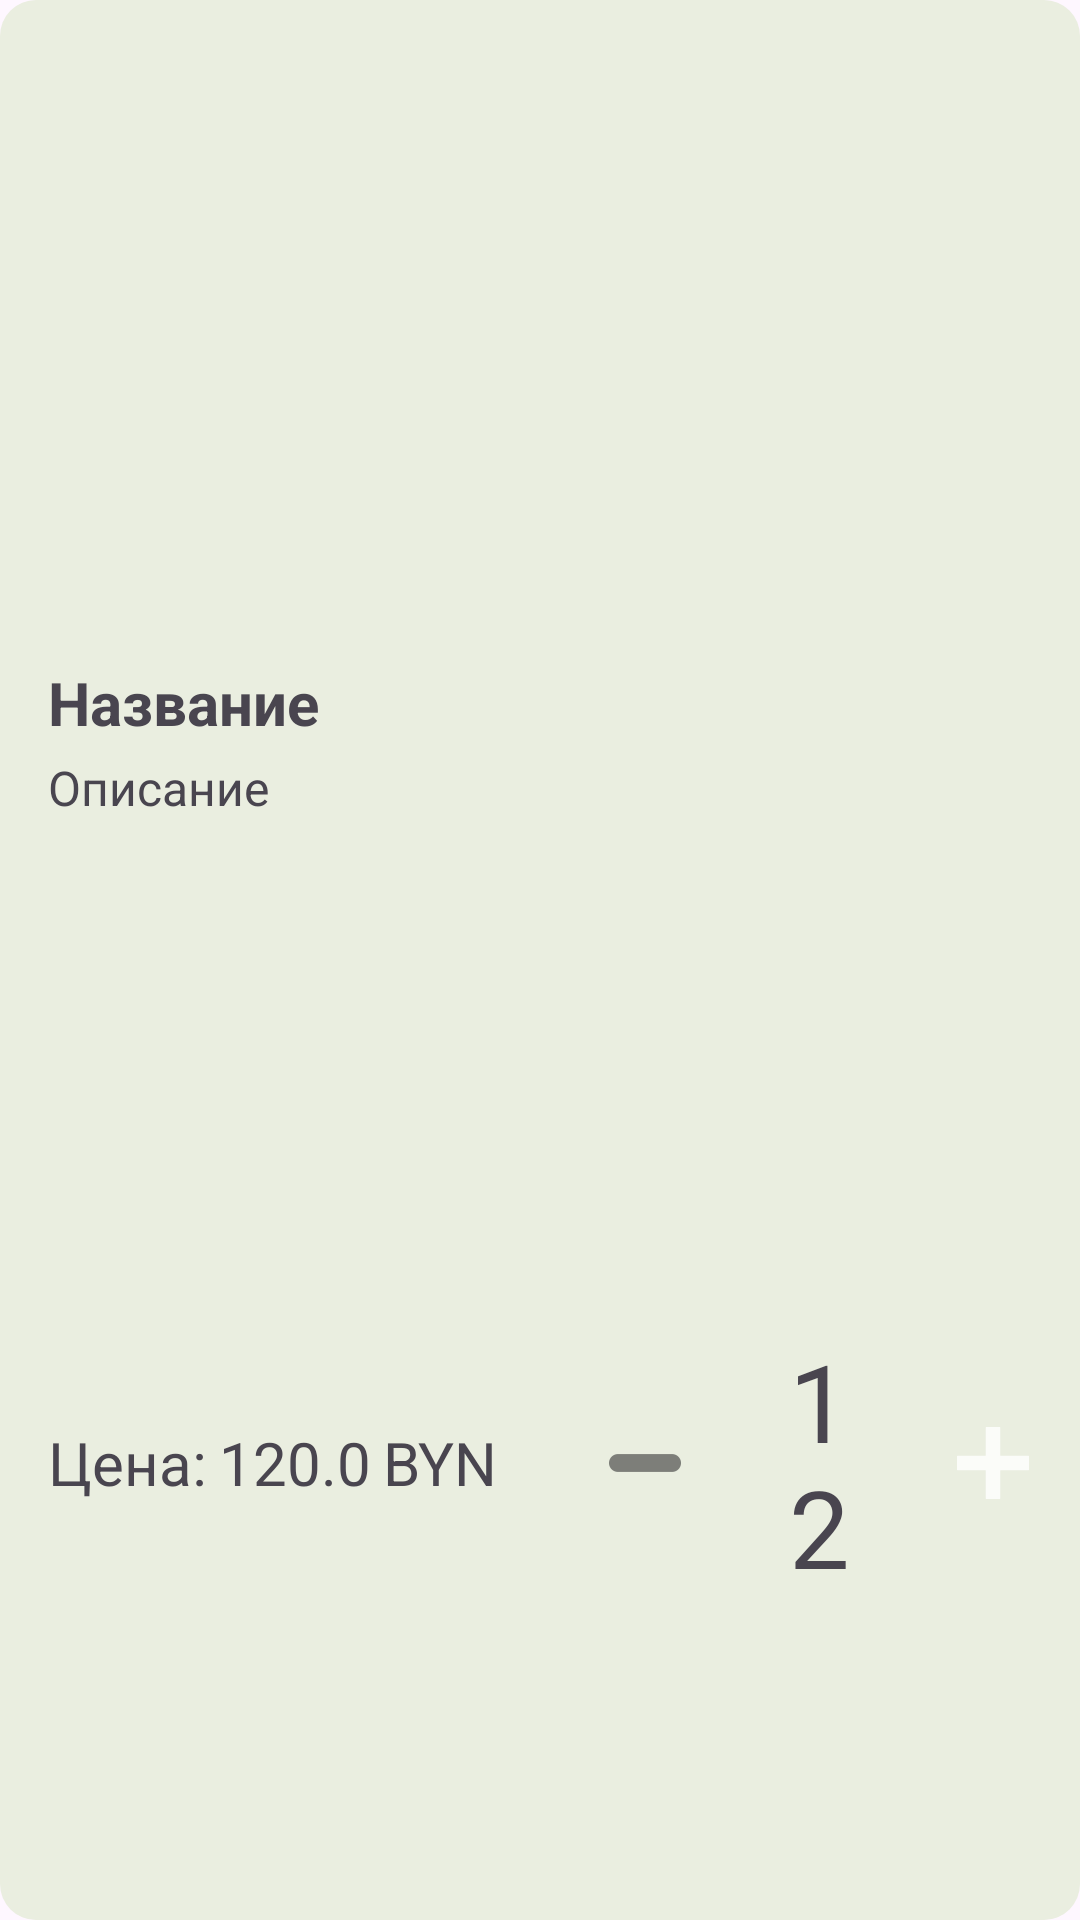

Where icons sit on this 1080x1920 app screen, as (x1, y1, x2, y2):
minus: (609, 1454, 681, 1472)
plus: (957, 1427, 1029, 1499)
